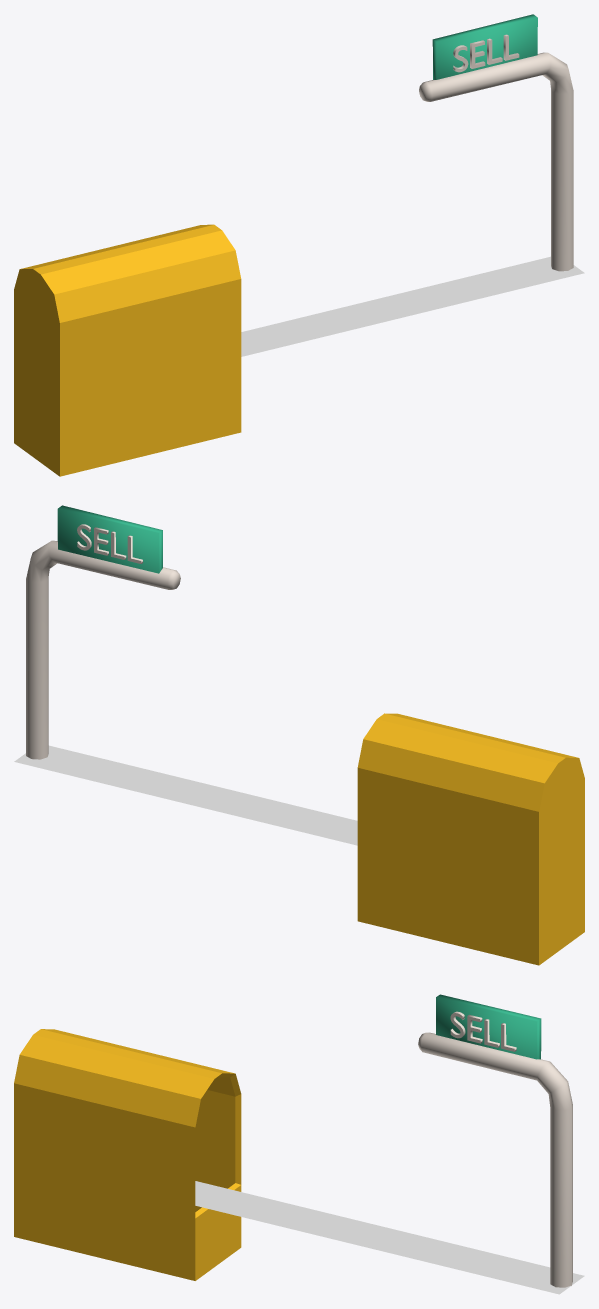
Rendered from Sell_Machine.fbx.
3 renders of one model, top to bottom at view 1: azimuth 30°, elevation 25°; view 2: azimuth 150°, elevation 25°; view 3: azimuth 330°, elevation 25°, orthographic.
Visible parts, largest first — view 1: Sell box, Sell path, Sell machine, Sell machine.002, Text.006; view 2: Sell box, Sell path, Sell machine, Sell machine.002, Text.002; view 3: Sell box, Sell path, Sell machine, Sell machine.002, Text.006.
Boxes of the visible parts, bbox=[...] form: Sell box: bbox=[14, 224, 241, 476]; Sell path: bbox=[241, 256, 584, 356]; Sell machine: bbox=[419, 52, 573, 271]; Sell machine.002: bbox=[432, 14, 537, 79]; Text.006: bbox=[453, 34, 519, 72]; Sell box: bbox=[357, 713, 584, 965]; Sell path: bbox=[14, 745, 357, 845]; Sell machine: bbox=[26, 540, 180, 759]; Sell machine.002: bbox=[57, 505, 162, 573]; Text.002: bbox=[77, 524, 143, 563]; Sell box: bbox=[14, 1029, 241, 1280]; Sell path: bbox=[195, 1181, 584, 1294]; Sell machine: bbox=[418, 1032, 572, 1287]; Sell machine.002: bbox=[436, 994, 541, 1059]; Text.006: bbox=[450, 1011, 516, 1051].
Bounding box in the file's own units: 1.04 × 0.5979 × 0.1549.
